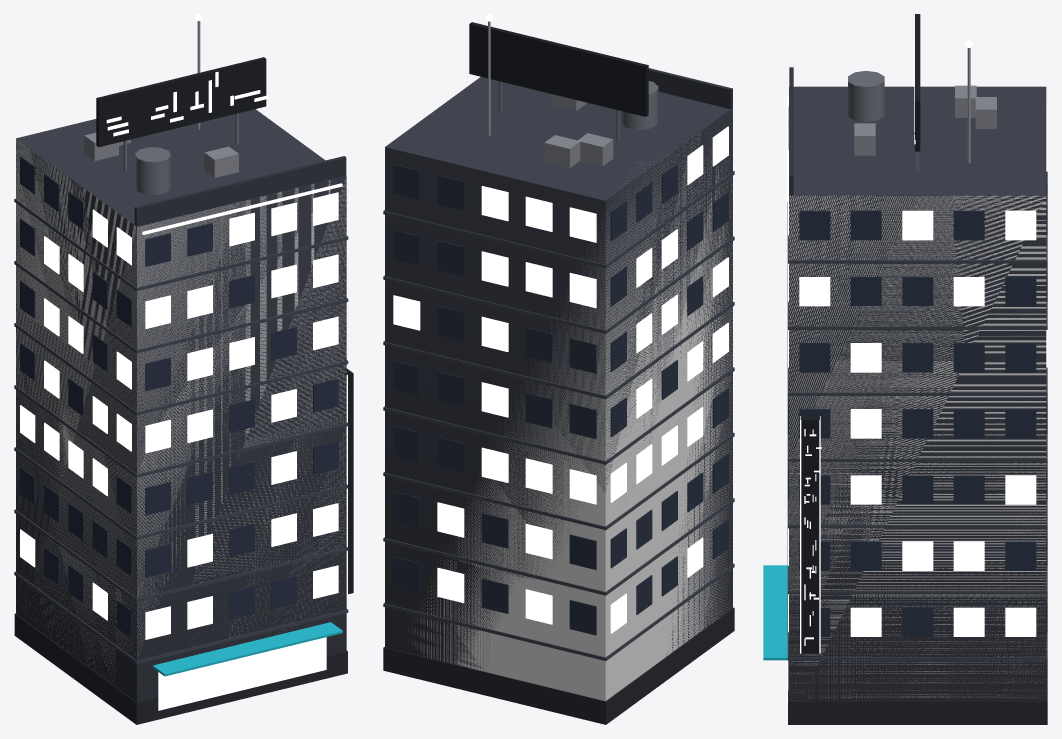
File: torre_neon_a.glb
3 renders of one model, left to right at view 1: azimuth 30°, elevation 25°; view 2: azimuth 150°, elevation 25°; view 3: azimuth 270°, elevation 25°, orthographic. The views are drawn at different scales.
Parts seen in each view (by area): view 1: torre_neon_a_Malla, COL_0; view 2: torre_neon_a_Malla, COL_0; view 3: torre_neon_a_Malla, COL_0.
Boxes of the visible parts, box(x1,y1,x2,y2) form: torre_neon_a_Malla: box(14, 14, 354, 724); COL_0: box(16, 139, 346, 682); torre_neon_a_Malla: box(383, 14, 734, 724); COL_0: box(408, 132, 732, 701); torre_neon_a_Malla: box(763, 14, 1047, 724); COL_0: box(789, 195, 1046, 700).
Bounding box in the file's own units: 12.83 × 33.48 × 13.26.
